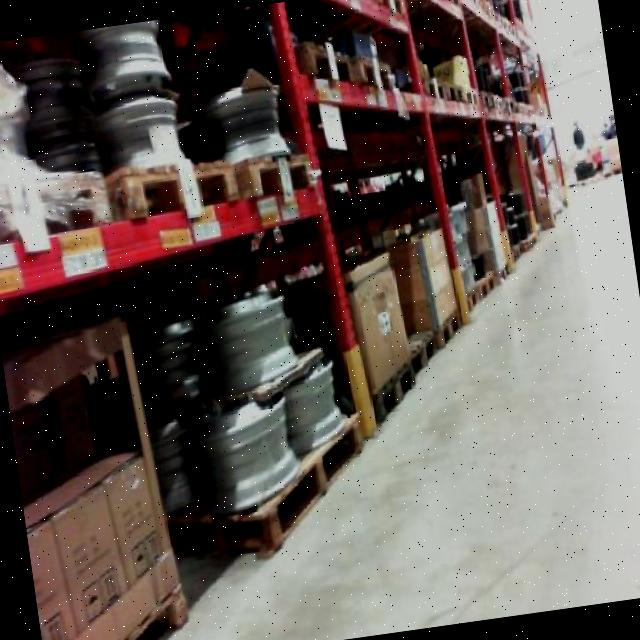pallet: (157, 394, 374, 564), (96, 138, 248, 236), (0, 155, 125, 262), (226, 137, 322, 210), (284, 20, 358, 104), (364, 347, 423, 429), (342, 42, 406, 108), (422, 303, 469, 364)
